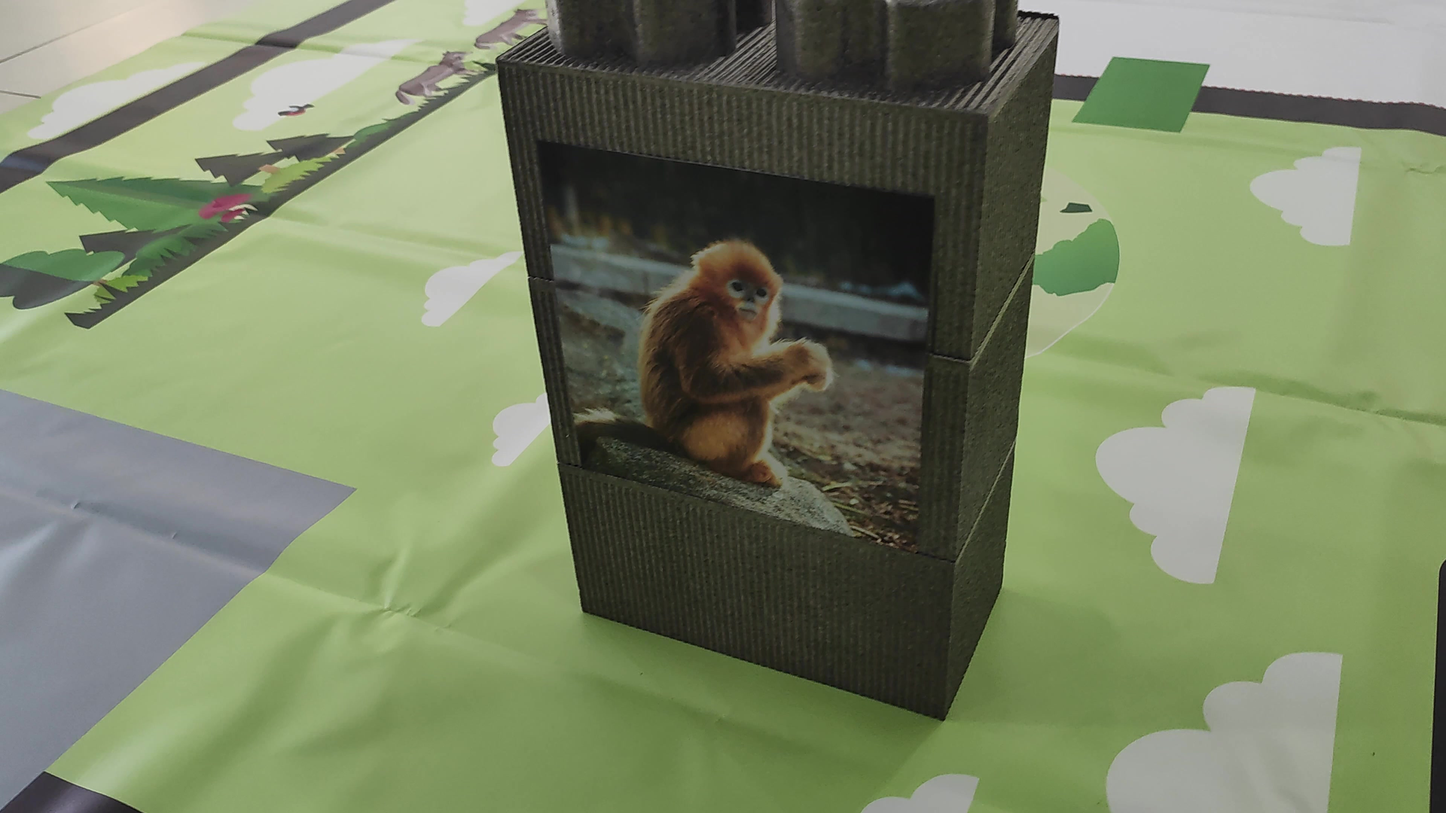monkey: (576, 168, 891, 510)
